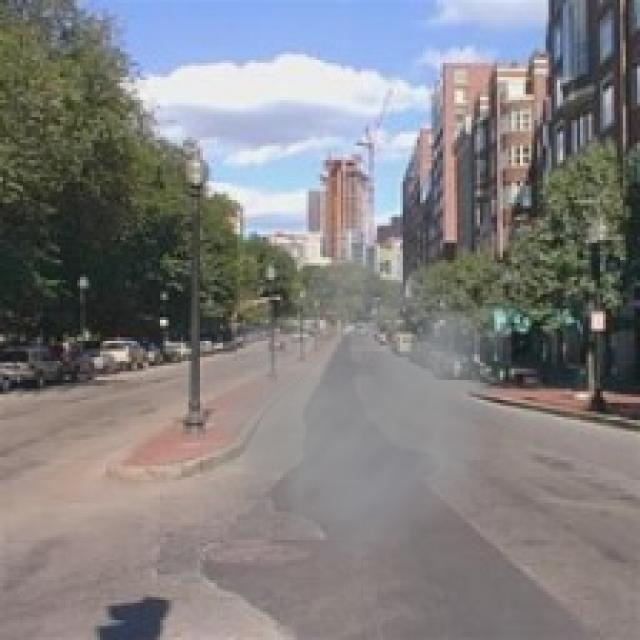smoke: (160, 226, 511, 583)
